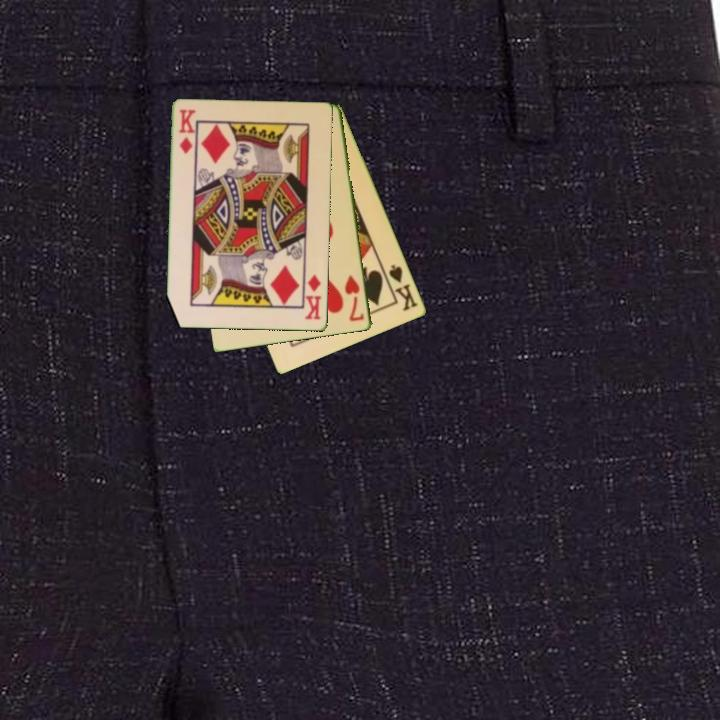7h: (341, 272, 367, 324)
Kd: (301, 271, 324, 322), (176, 106, 197, 157)
Ks: (386, 261, 421, 314)
